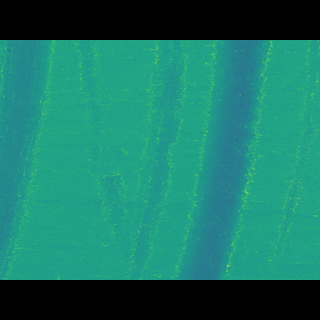Loch: (72, 70, 185, 250), (170, 69, 275, 249), (0, 69, 53, 251), (264, 70, 320, 242)
